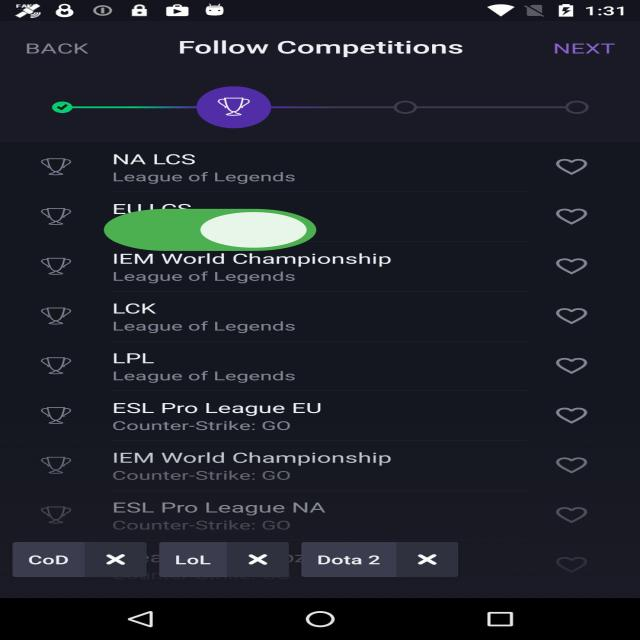social proof: (94, 193, 326, 270)
